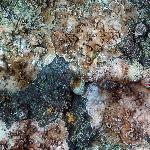dead: (2, 4, 146, 146)
